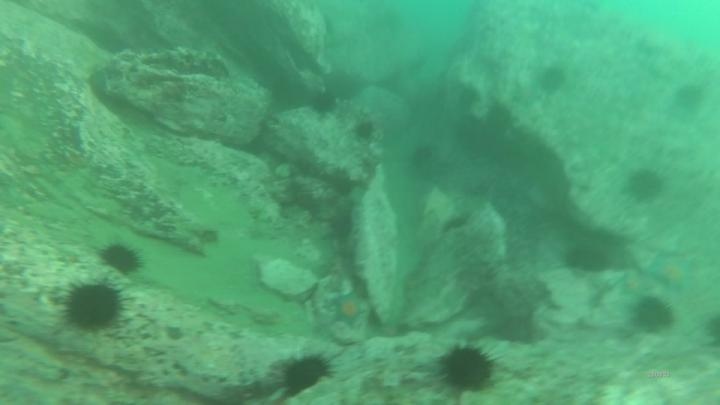echinus: (65, 285, 119, 326), (443, 350, 493, 390), (284, 358, 326, 392), (636, 298, 674, 333), (569, 244, 606, 272), (626, 170, 660, 199), (102, 245, 138, 272), (486, 105, 513, 134), (677, 84, 700, 110), (453, 87, 478, 109), (542, 65, 562, 91), (312, 92, 334, 110), (356, 124, 372, 138)
starfish: (652, 255, 692, 289), (334, 293, 365, 325), (623, 273, 650, 297)
